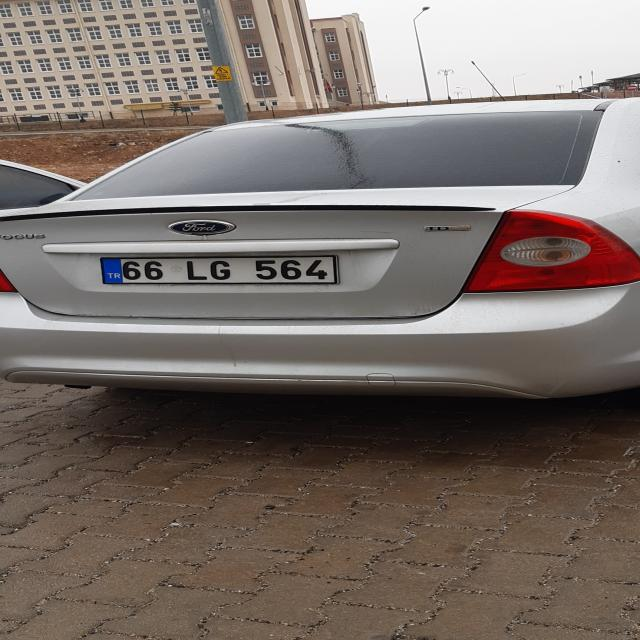plate: (100, 254, 338, 284)
